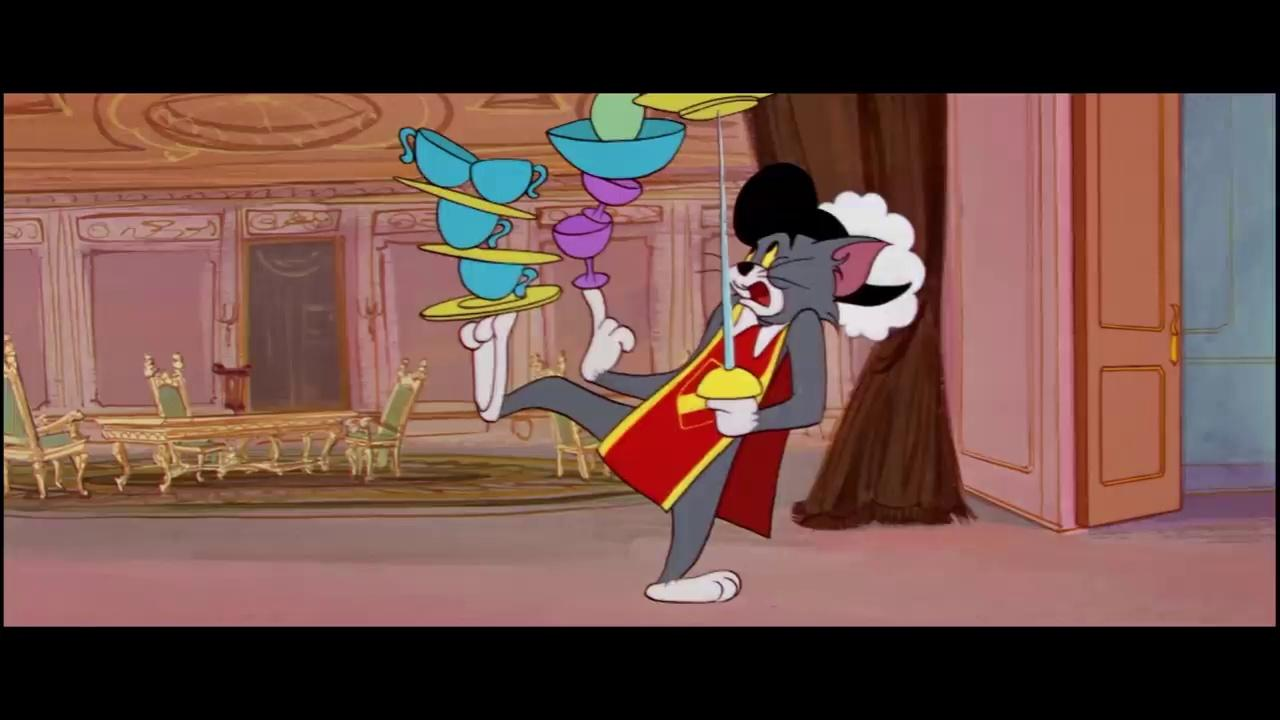Tom: (457, 230, 894, 606)
